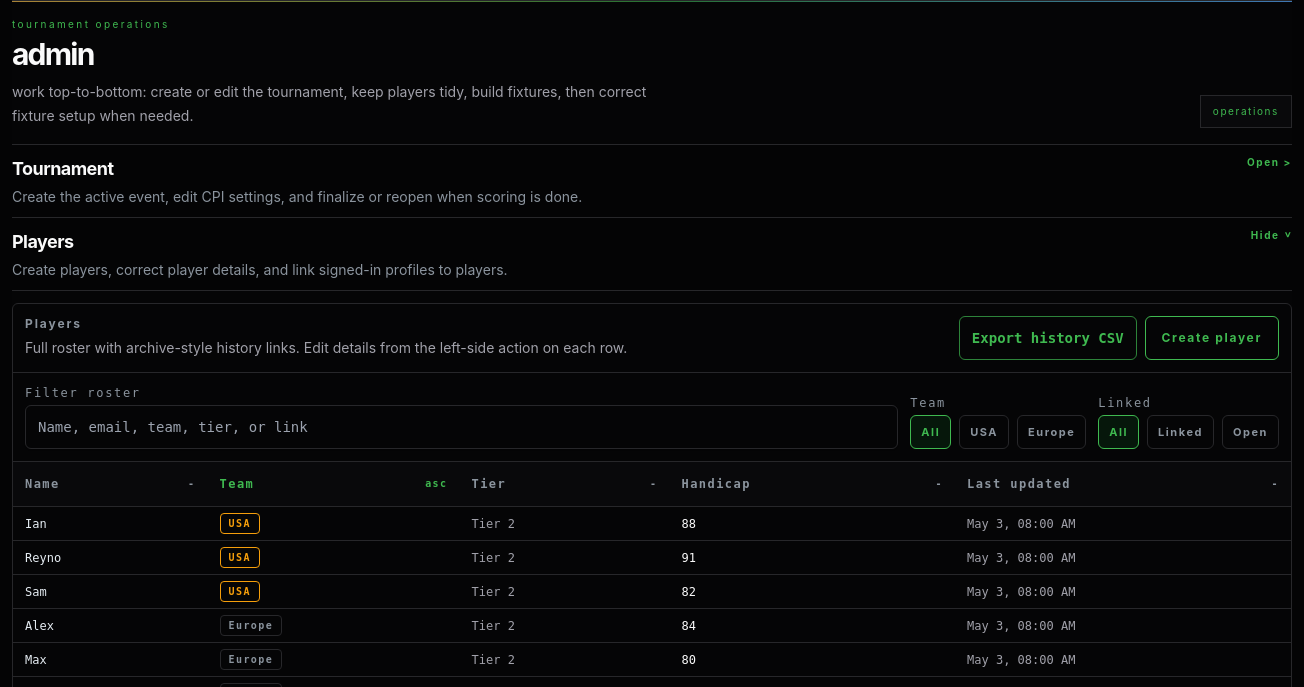
Test: 2026 admin setup panel › filters and sorts the admin player roster table
The image size is (1304, 687).
Click the button "Name -" at (110, 484), box [25,462,196,506]
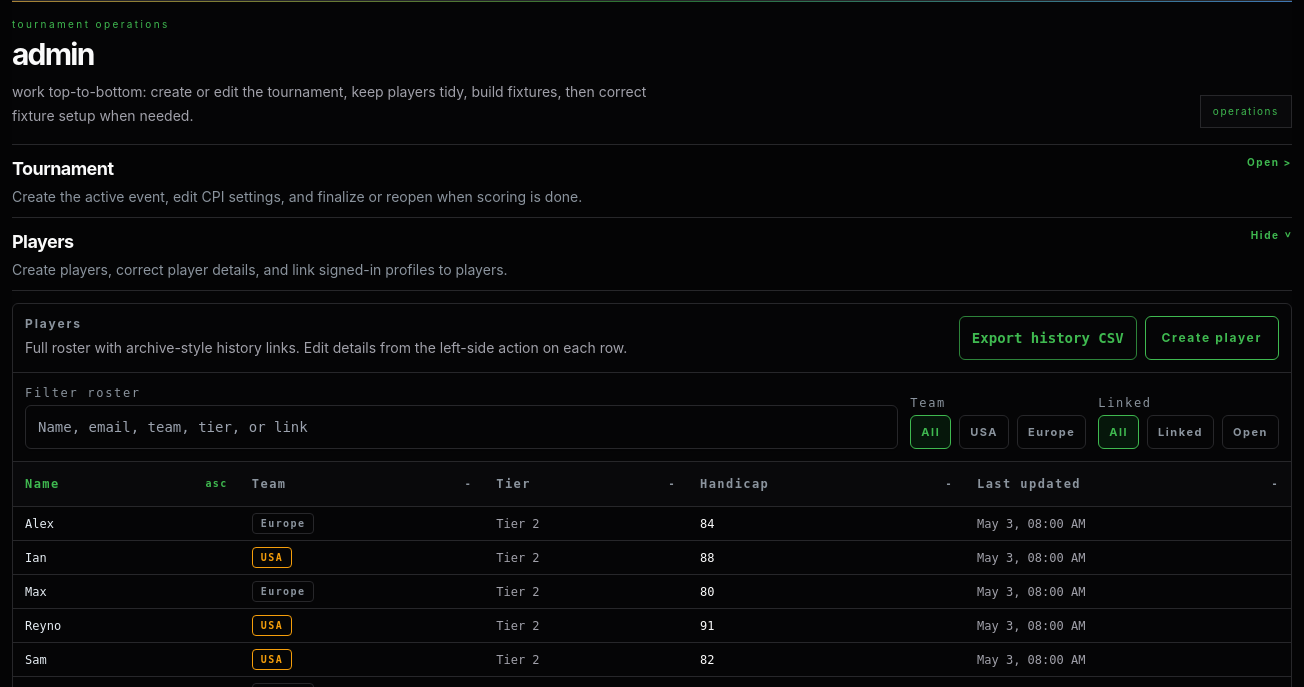
Click the button "Name asc" at (126, 484), box [25,462,228,506]
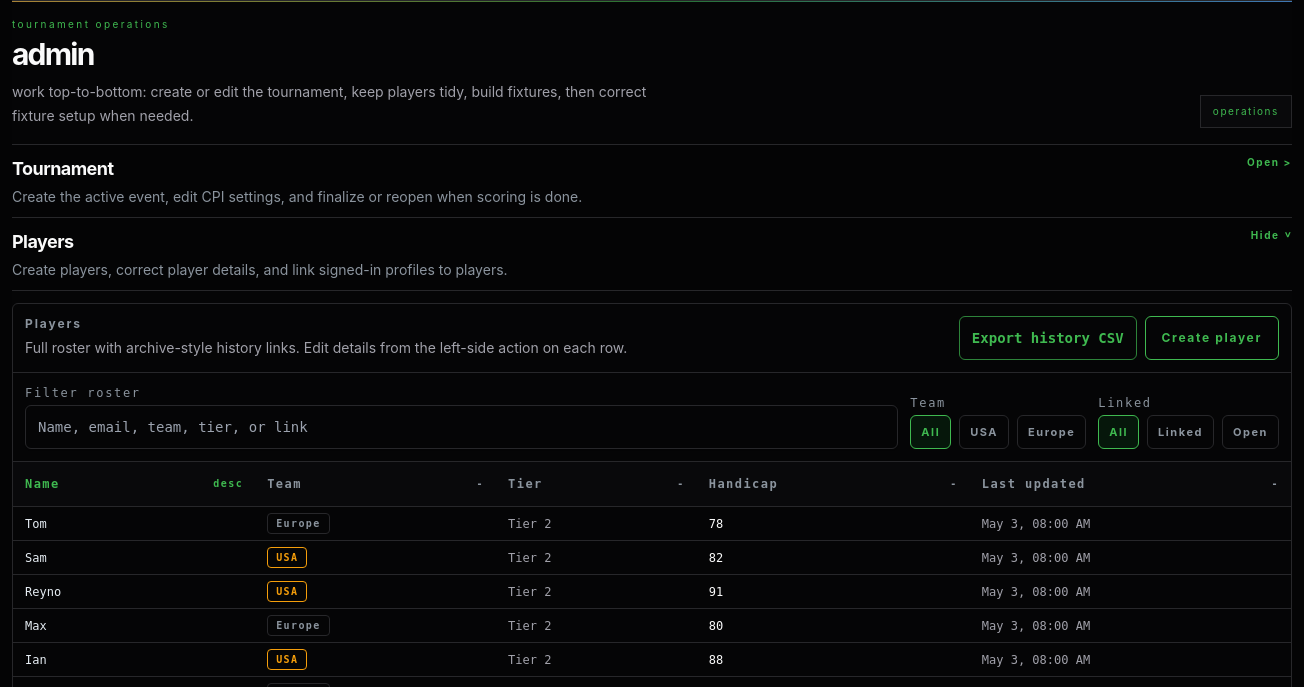
Type "ian@ruffryder.golf" into the field labelled "Filter roster" at (462, 427), box [25,405,898,449]
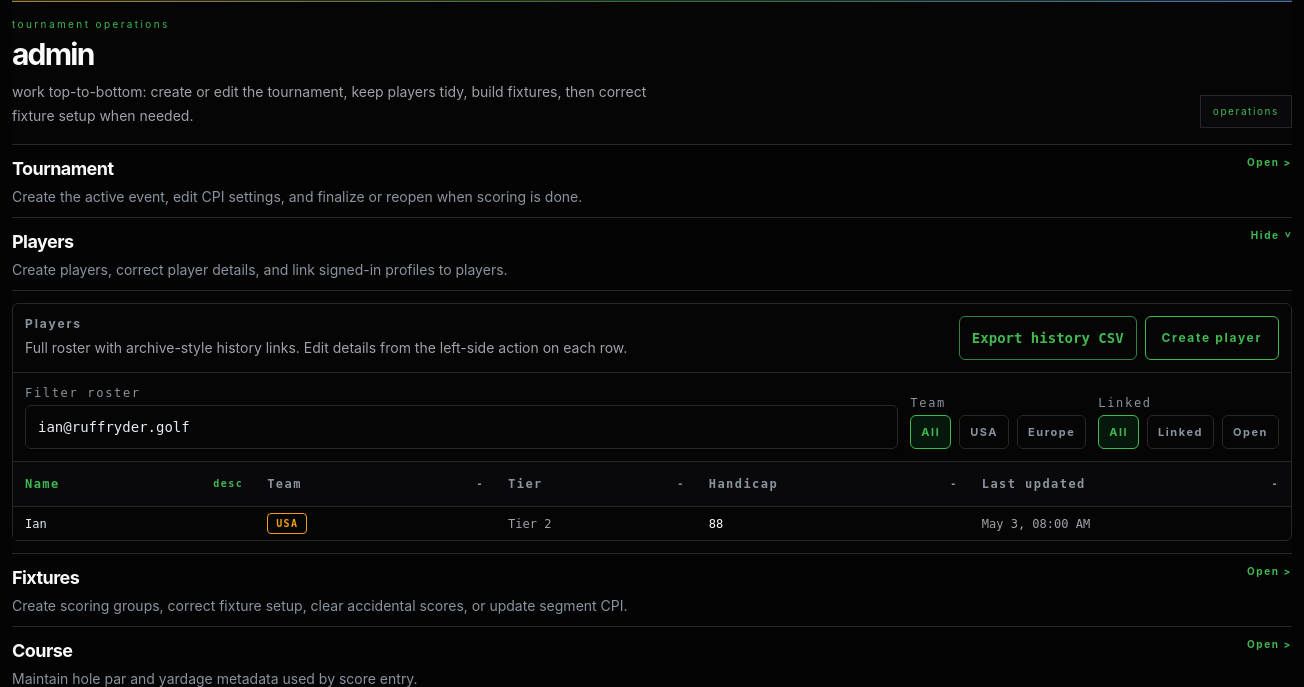
Clear the field labelled "Filter roster" at (462, 427), box [25,405,898,449]
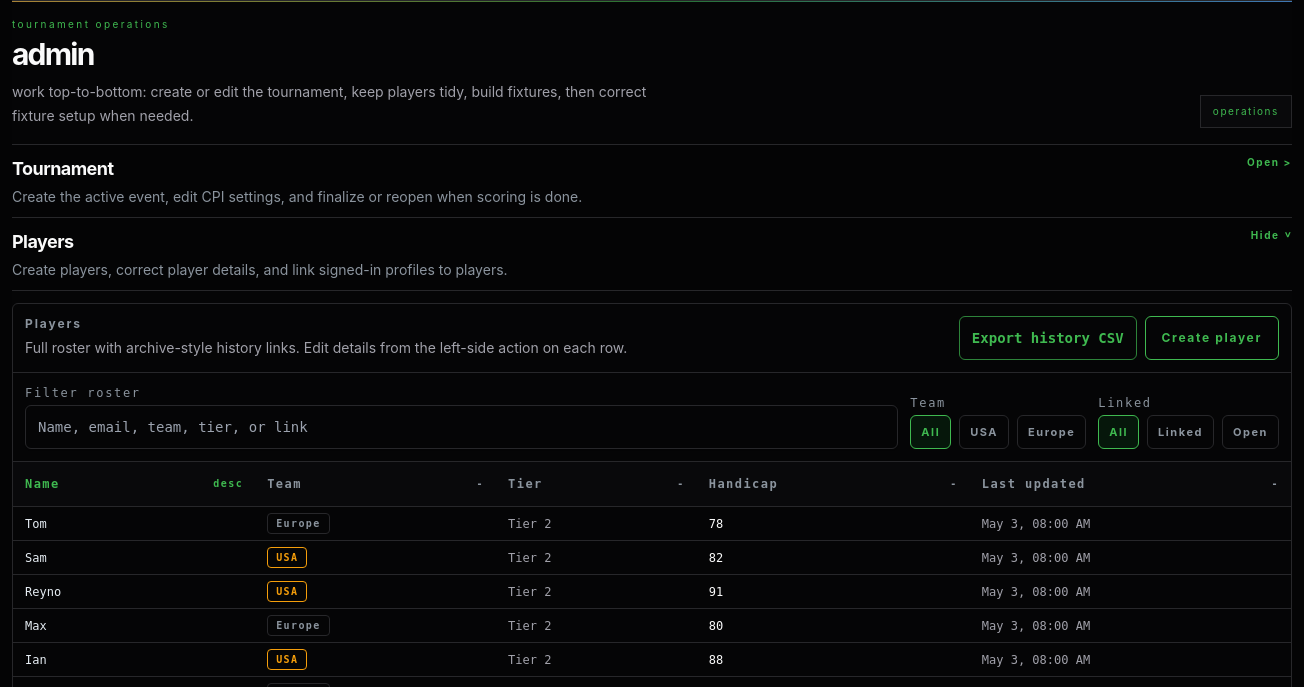
Click the button "Open" at (1250, 432), box [1222,414,1279,449]
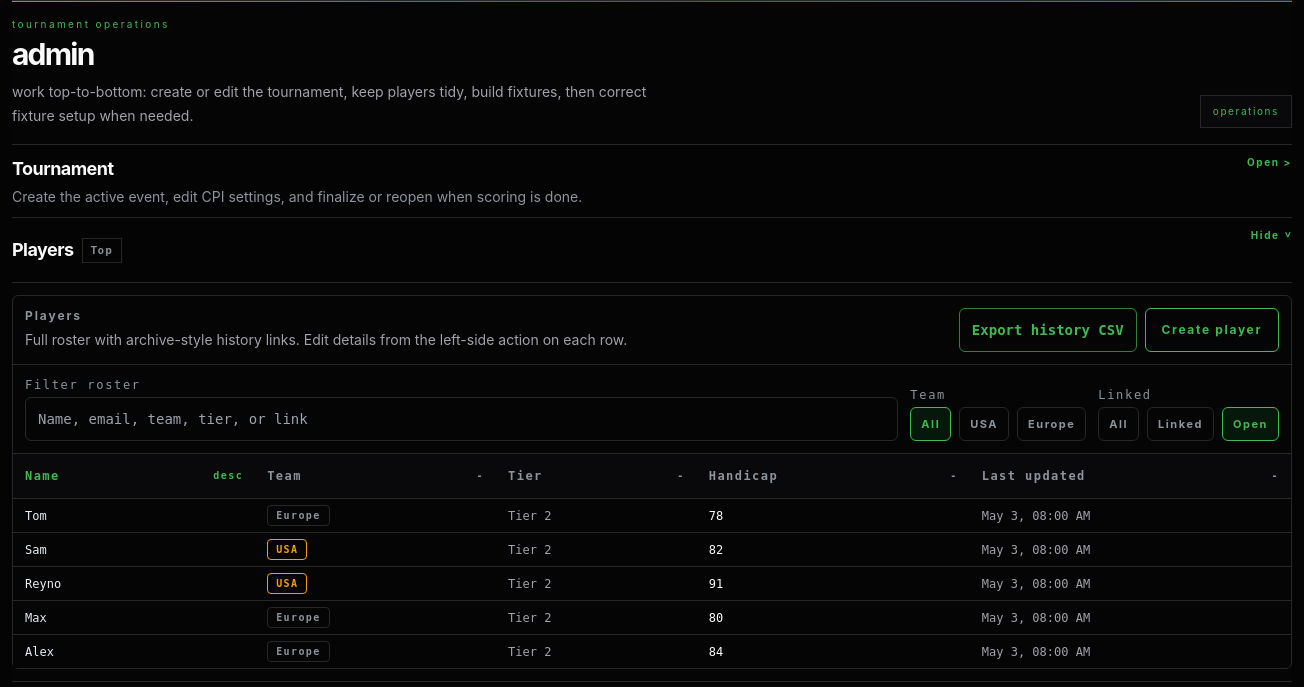
Expected: the button "Ian" no longer shows "Ian"
